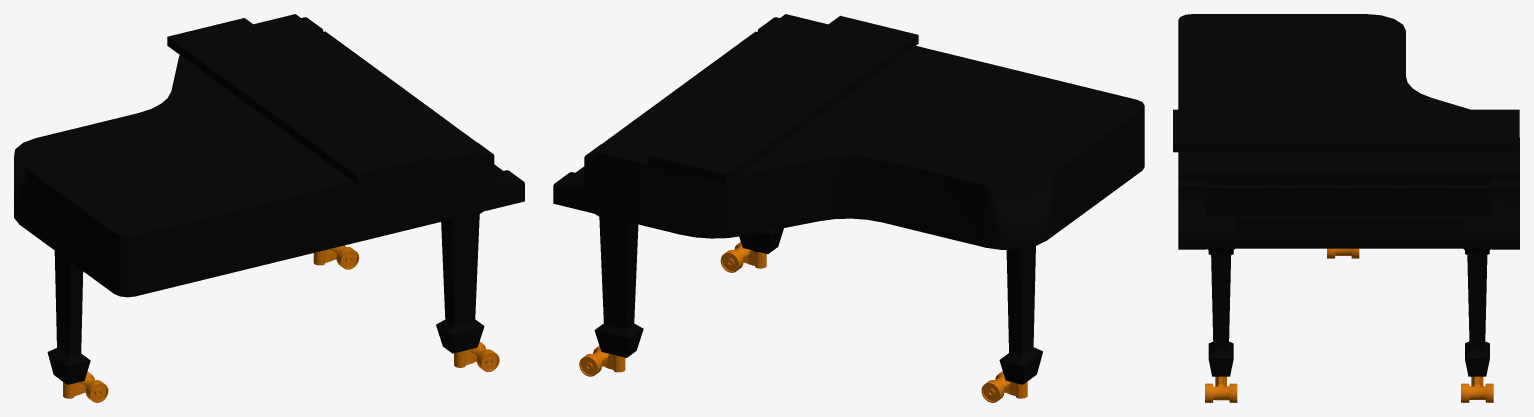
The model's file is Piano.fbx.
3 views of the same model, side by side, from view 1: azimuth 30°, elevation 25°; view 2: azimuth 150°, elevation 25°; view 3: azimuth 270°, elevation 25° (orthographic). The views are drawn at different scales.
Visible parts, largest first — view 1: pCube7; view 2: pCube7; view 3: pCube7.
Part boxes in pixels (left/top/right/bottom): pCube7: left=14, top=14, right=524, bottom=402; pCube7: left=553, top=14, right=1144, bottom=402; pCube7: left=1173, top=14, right=1519, bottom=402.
Bounding box in the file's own units: 15.79 × 9.23 × 12.86.
